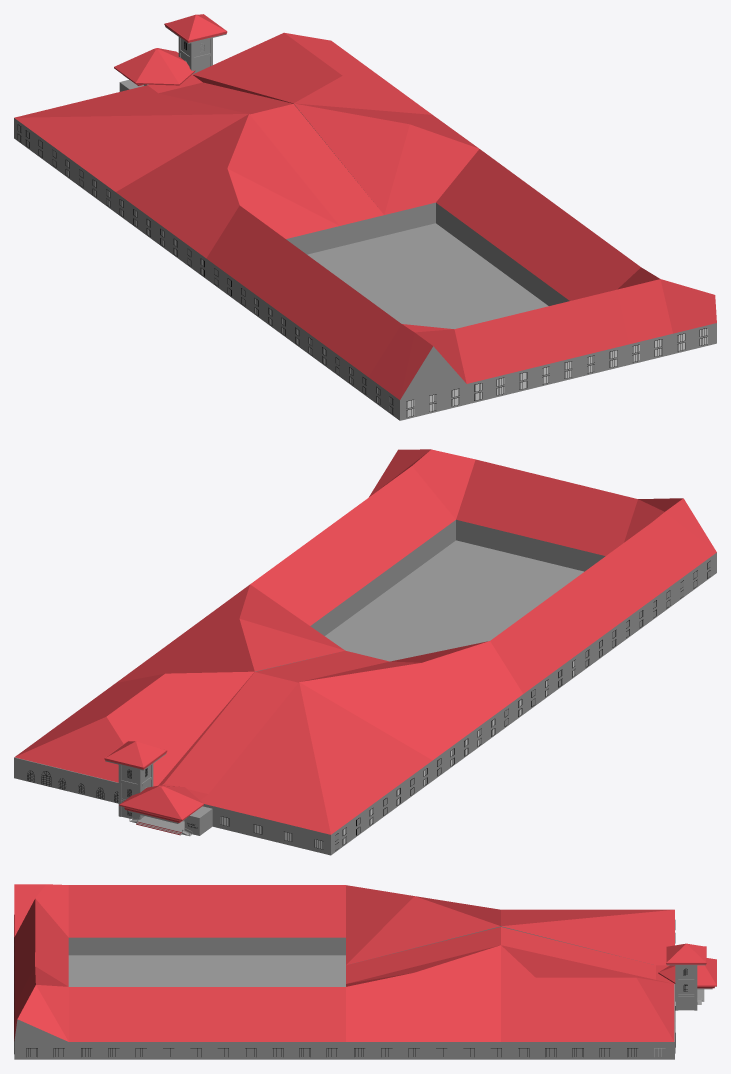
Rendered from Bahay Pag-Asa.fbx.
3 renders of one model, top to bottom at view 1: azimuth 30°, elevation 25°; view 2: azimuth 150°, elevation 25°; view 3: azimuth 270°, elevation 25°, orthographic. The views are drawn at different scales.
Parts seen in each view (by area): view 1: Cube.001, Roof, Tower, Square Window.006, Square Window.007, Square Window.010, Square Window.011; view 2: Cube.001, Tower, Roof, Square Window.006, Square Window.007, Cube; view 3: Cube.001, Tower, Square Window.009, Roof.
Boxes of the visible parts, <box> form: Cube.001: <box>14,32,716,420</box>; Roof: <box>114,48,195,85</box>; Tower: <box>164,14,227,73</box>; Square Window.006: <box>25,130,393,405</box>; Square Window.007: <box>25,139,393,414</box>; Square Window.010: <box>406,336,707,417</box>; Square Window.011: <box>406,328,707,408</box>; Cube.001: <box>14,449,716,855</box>; Tower: <box>104,741,167,819</box>; Roof: <box>119,785,203,823</box>; Square Window.006: <box>342,560,710,835</box>; Square Window.007: <box>342,570,710,845</box>; Cube: <box>184,806,212,835</box>; Cube.001: <box>14,884,704,1059</box>; Tower: <box>666,943,706,1010</box>; Square Window.009: <box>26,1048,637,1056</box>; Roof: <box>658,958,716,989</box>.
Bounding box in the file's own units: 12783 × 2791 × 28626.
